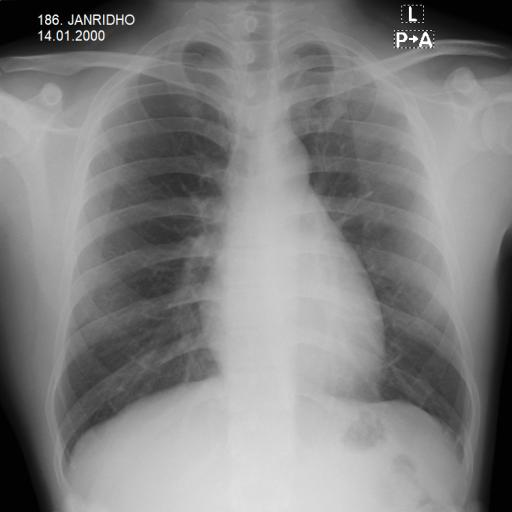normal: (41, 13, 482, 478)
